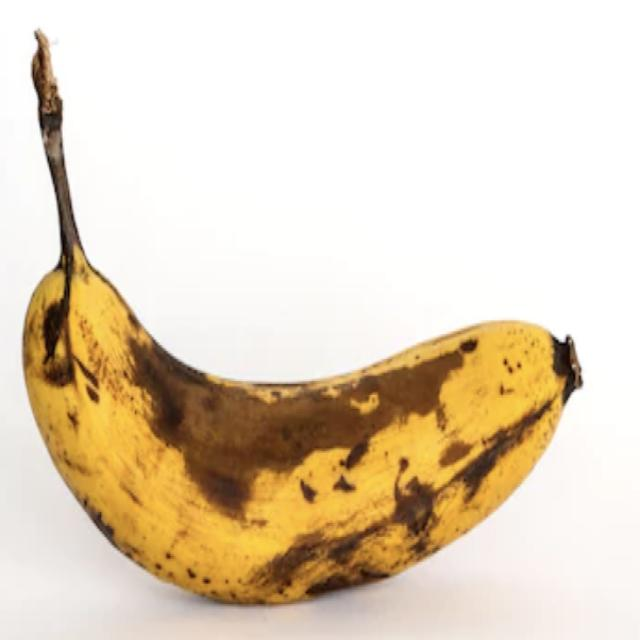rotten-banana: (20, 25, 584, 607)
